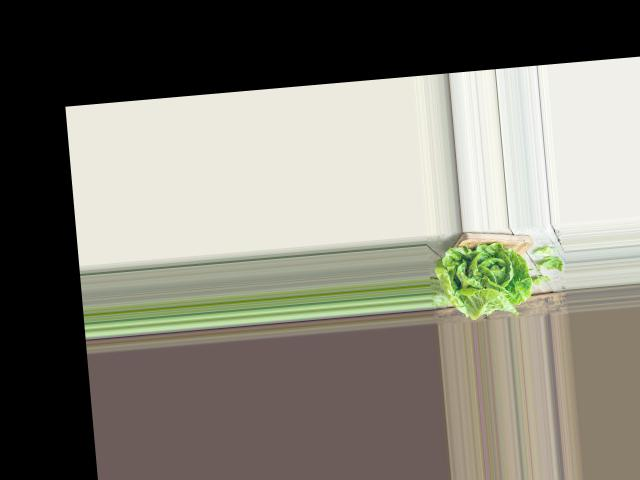lettuce: (430, 236, 530, 320)
